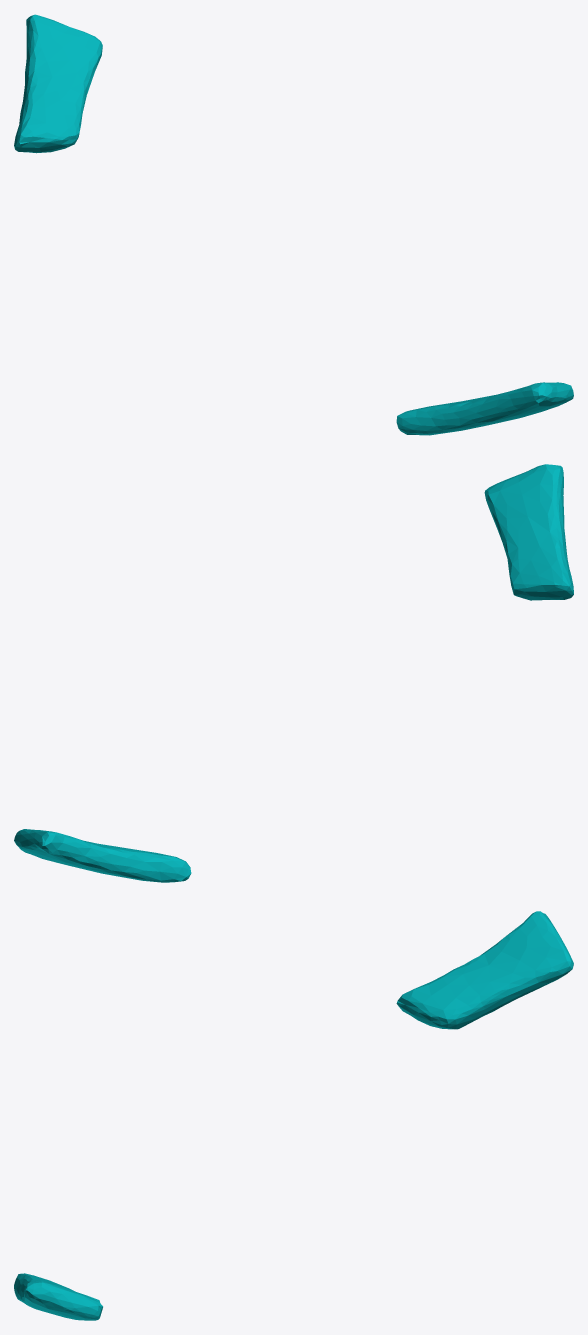
3 views of the same model, one above another, from view 1: azimuth 30°, elevation 25°; view 2: azimuth 150°, elevation 25°; view 3: azimuth 330°, elevation 25° (orthographic).
Parts seen in each view (by area): view 1: 312782608.obj; view 2: 312782608.obj; view 3: 312782608.obj.
Part boxes in pixels (bbox=[...]): 312782608.obj: bbox=[14, 14, 573, 435]; 312782608.obj: bbox=[14, 464, 573, 882]; 312782608.obj: bbox=[14, 911, 573, 1320].
Bounding box in the file's own units: 1097 × 654 × 7450.
